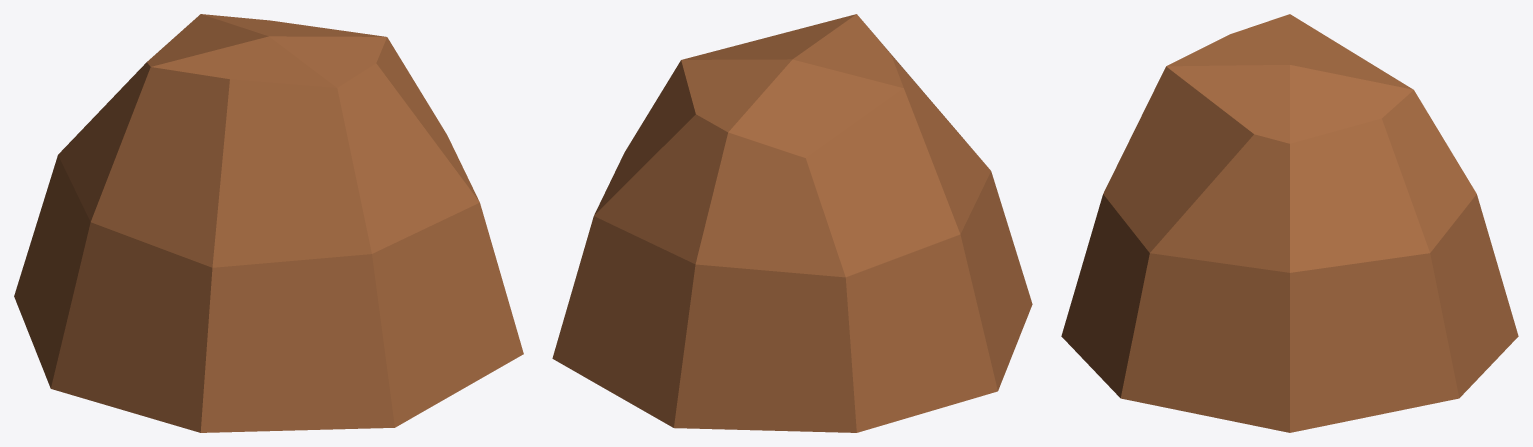
The model's file is Stone30cm.fbx.
3 renders of one model, left to right at view 1: azimuth 30°, elevation 25°; view 2: azimuth 150°, elevation 25°; view 3: azimuth 270°, elevation 25°, orthographic. The views are drawn at different scales.
Visible parts, largest first — view 1: pCube1; view 2: pCube1; view 3: pCube1.
Boxes of the visible parts, x1,y1,x2,y2 form: pCube1: (14,14,523,432); pCube1: (552,14,1032,432); pCube1: (1061,14,1518,432).
Bounding box in the file's own units: 36.7 × 24.52 × 36.7.
